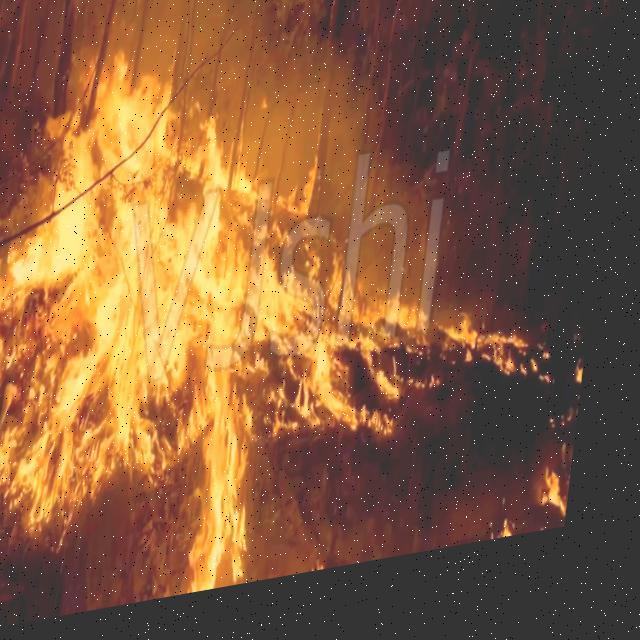Fire: (0, 0, 584, 620)
